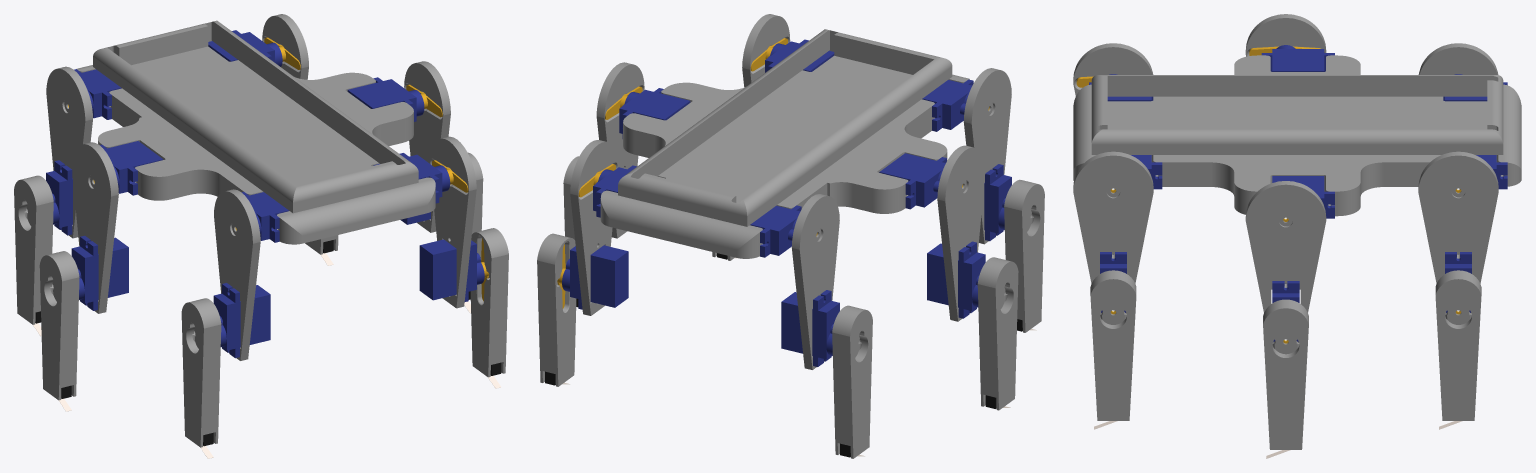
Rendered from Robot v8.fbx.
The picture shows the model from 3 angles, left to right: view 1: azimuth 30°, elevation 25°; view 2: azimuth 150°, elevation 25°; view 3: azimuth 270°, elevation 25°; orthographic projection. The views are drawn at different scales.
Parts seen in each view (by area): view 1: Body6, Body1 (×11), Body1 (2) (×10); view 2: Body6, Body1 (×11), Body1 (2) (×10); view 3: Body6, Body1 (×9), Body1 (2) (×7).
Boxes of the visible parts, x1,y1,x2,y2 form: Body6: [77, 20, 435, 244]; Body1 (×11): [14, 14, 508, 447]; Body1 (2) (×10): [46, 30, 484, 358]; Body6: [600, 29, 969, 258]; Body1 (×11): [537, 14, 1044, 458]; Body1 (2) (×10): [562, 39, 1011, 366]; Body6: [1073, 55, 1521, 216]; Body1 (×9): [1073, 14, 1498, 449]; Body1 (2) (×7): [1100, 45, 1507, 341].
Size of the model in its own units: 218 by 123 by 195.
